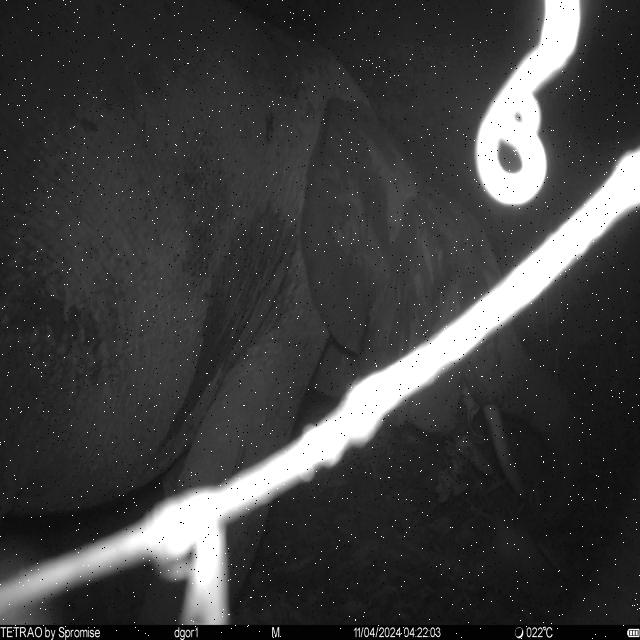ear: (300, 100, 414, 432)
elephant: (0, 1, 588, 624)
tusk: (485, 403, 531, 504)
